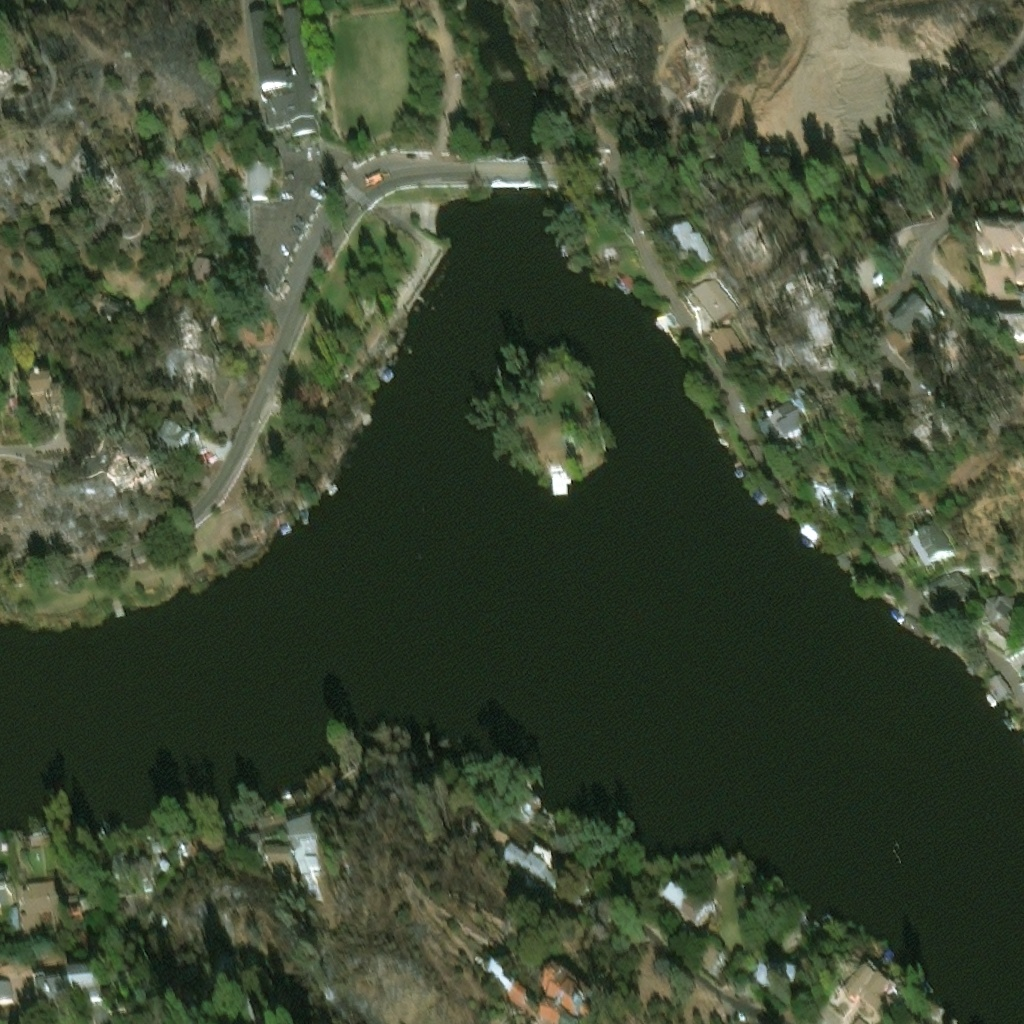0 no-damage: (250, 9, 329, 138), (259, 804, 324, 894), (509, 964, 603, 1023), (887, 498, 957, 569), (33, 962, 107, 1023), (678, 267, 739, 332), (756, 397, 818, 455), (503, 842, 563, 897), (16, 872, 69, 934), (919, 564, 981, 612), (733, 211, 790, 263), (662, 882, 725, 929), (885, 290, 943, 340), (656, 214, 713, 264), (974, 221, 1023, 277), (701, 317, 750, 369), (183, 253, 231, 299), (979, 586, 1023, 636), (148, 416, 198, 458), (235, 150, 276, 200), (740, 957, 805, 988), (31, 375, 70, 426), (909, 403, 950, 449), (811, 477, 861, 514), (861, 978, 901, 1023), (845, 969, 880, 1006), (109, 847, 152, 877), (95, 287, 127, 322), (488, 963, 519, 997), (528, 800, 559, 832), (1001, 637, 1023, 679), (995, 306, 1023, 336), (0, 383, 26, 415), (0, 860, 16, 910), (463, 817, 489, 847), (768, 491, 795, 519), (986, 671, 1013, 696), (133, 302, 153, 335), (20, 822, 50, 843), (586, 924, 613, 947), (899, 610, 925, 633), (144, 900, 171, 922), (67, 891, 87, 919), (829, 545, 852, 568), (588, 898, 605, 924), (278, 786, 297, 808), (0, 974, 14, 998), (155, 852, 172, 868), (732, 460, 748, 475), (103, 989, 120, 1002), (0, 839, 10, 853)
3 destroyed: (673, 38, 714, 107), (104, 450, 158, 490), (804, 327, 849, 368), (88, 159, 127, 203), (801, 300, 832, 337), (673, 101, 711, 131), (184, 358, 217, 388), (587, 63, 617, 94), (70, 144, 96, 169), (0, 73, 16, 108), (795, 245, 817, 269)
4 un-classified: (570, 389, 600, 427), (249, 995, 287, 1023), (144, 982, 157, 992)
